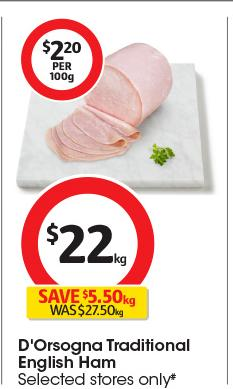description_block: (10, 332, 205, 370)
price_main: (22, 191, 153, 287)
product_image_block: (12, 72, 215, 200)
promo_text_block: (17, 286, 167, 323)
unit_price_block: (26, 30, 96, 86)
